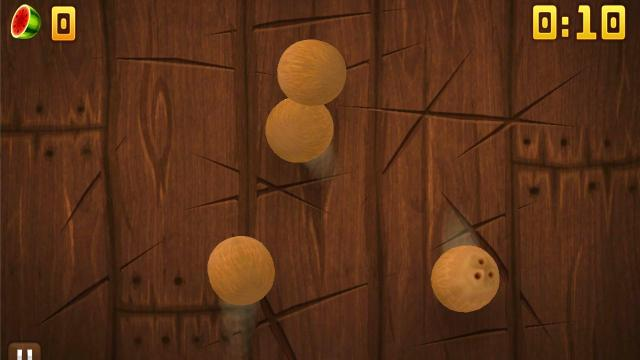fruit: (276, 38, 348, 108), (206, 234, 276, 304), (431, 244, 502, 312), (264, 97, 334, 163)
ignore: (9, 3, 43, 41)
